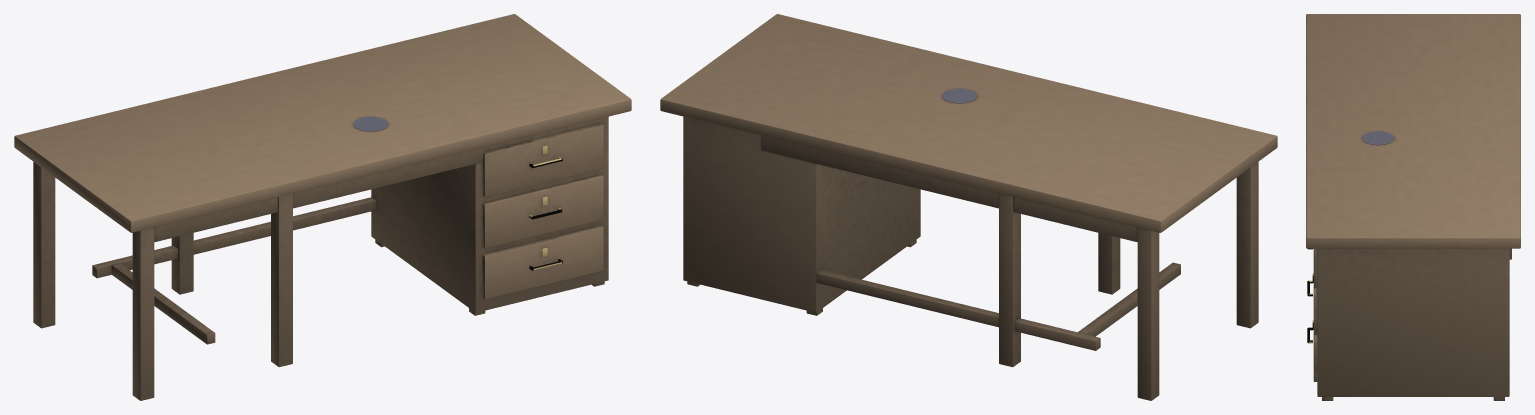
Rendered from soviet_desk.glb.
3 renders of one model, left to right at view 1: azimuth 30°, elevation 25°; view 2: azimuth 150°, elevation 25°; view 3: azimuth 270°, elevation 25°, orthographic. The views are drawn at different scales.
Parts seen in each view (by area): view 1: soviet_desk; view 2: soviet_desk; view 3: soviet_desk.
Boxes of the visible parts, x1,y1,x2,y2 form: soviet_desk: [14, 14, 631, 400]; soviet_desk: [660, 14, 1277, 400]; soviet_desk: [1306, 14, 1520, 400].
Size of the model in its own units: 2.1 by 0.751 by 0.85.
Materials: 1 (1 with a texture image).
